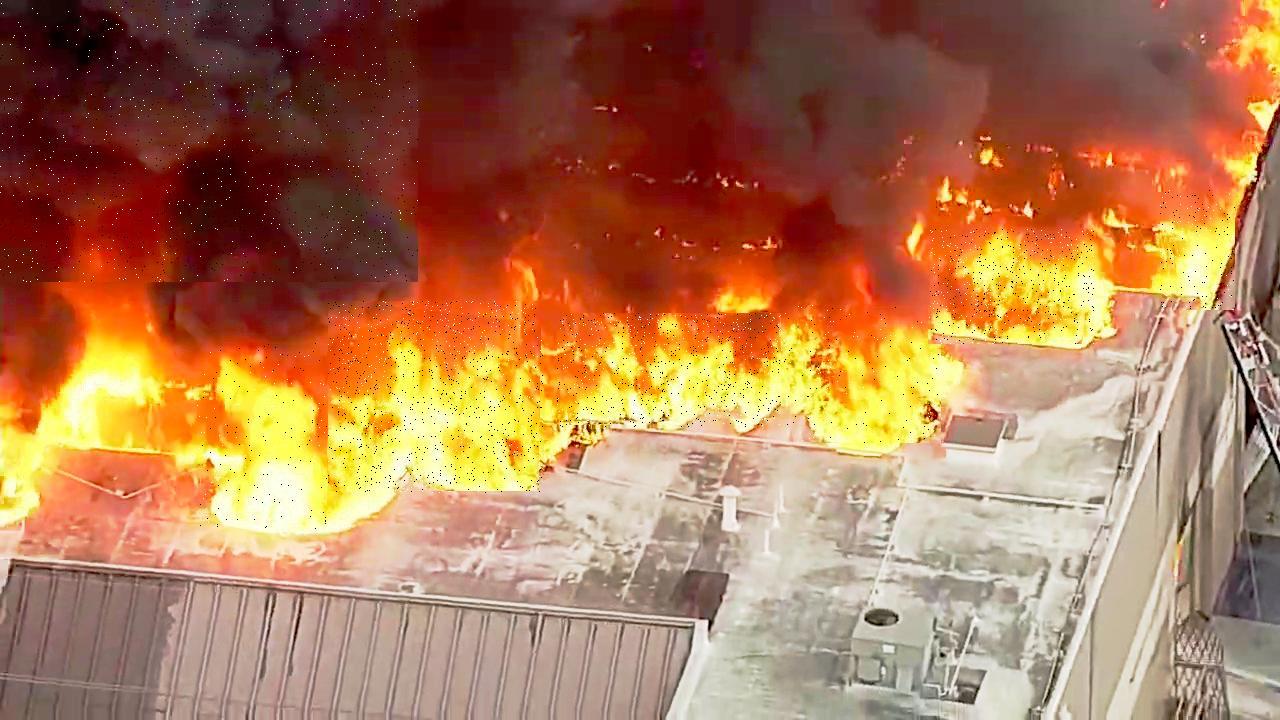fire: (329, 302, 544, 494), (557, 314, 815, 428), (197, 342, 327, 532), (782, 305, 944, 443), (930, 229, 1094, 344), (1160, 190, 1235, 310)
smoke: (0, 0, 418, 282)
